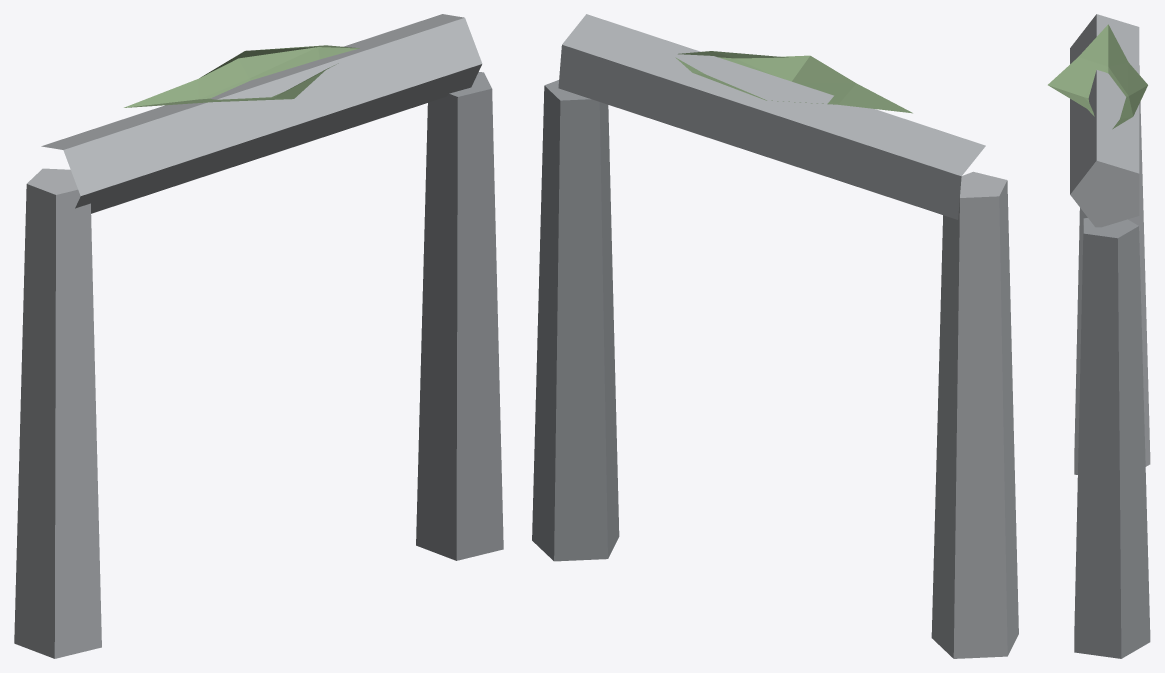
Rendered from arch_rock_v38.glb.
3 views of the same model, side by side, from view 1: azimuth 30°, elevation 25°; view 2: azimuth 150°, elevation 25°; view 3: azimuth 270°, elevation 25° (orthographic). The views are drawn at different scales.
Parts seen in each view (by area): view 1: lod0; view 2: lod0; view 3: lod0.
Part boxes in pixels (x1,y1,x2,y2): lod0: (14,14,503,658); lod0: (532,14,1018,658); lod0: (1048,14,1150,658).
Size of what is drawn, in the model's own units: 2.62 by 2.81 by 0.5385.
